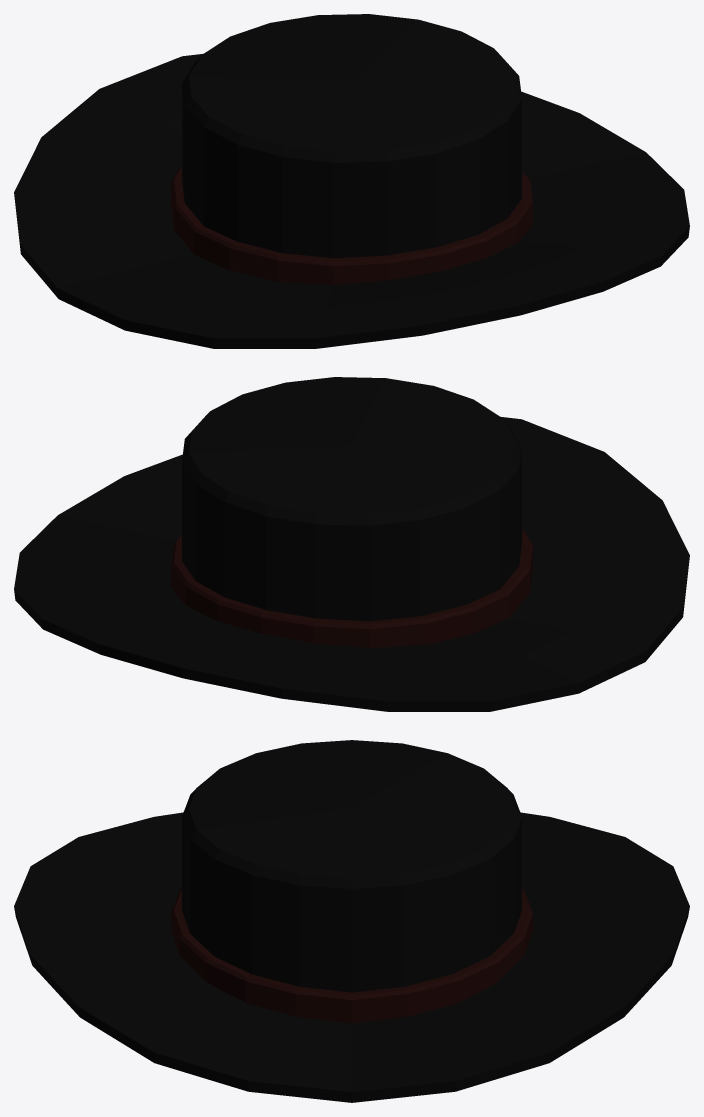
File: ww_hat_b.glb
3 renders of one model, top to bottom at view 1: azimuth 30°, elevation 25°; view 2: azimuth 150°, elevation 25°; view 3: azimuth 270°, elevation 25°, orthographic.
Parts seen in each view (by area): view 1: Hat_B; view 2: Hat_B; view 3: Hat_B.
Part boxes in pixels (left/top/right/bottom): Hat_B: left=14, top=14, right=689, bottom=348; Hat_B: left=14, top=377, right=689, bottom=711; Hat_B: left=14, top=740, right=689, bottom=1102.
Size of the model in its own units: 0.5705 by 0.1418 by 0.5706.
